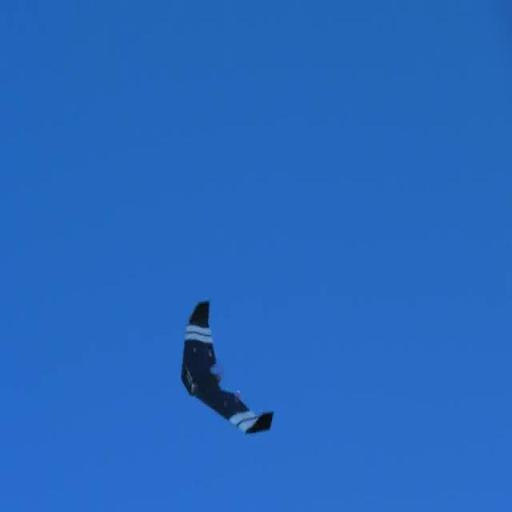uav: (179, 294, 277, 448)
